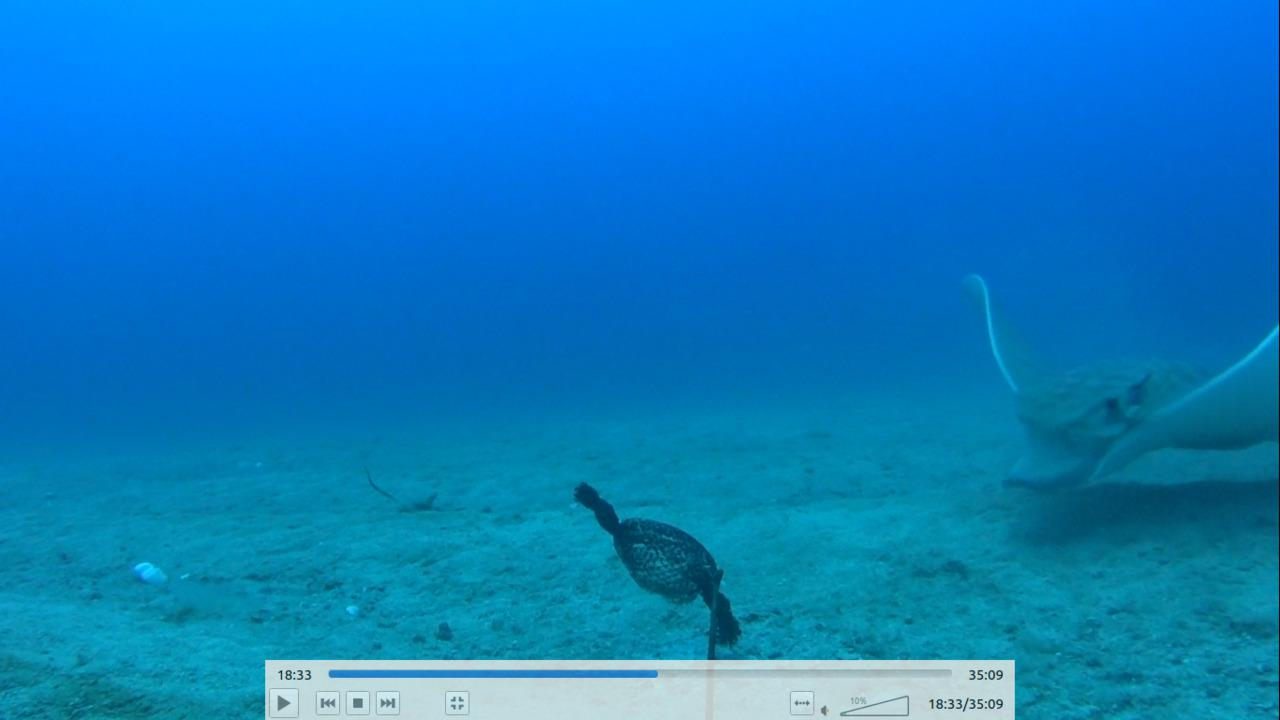myliobatis: (936, 263, 1279, 505)
